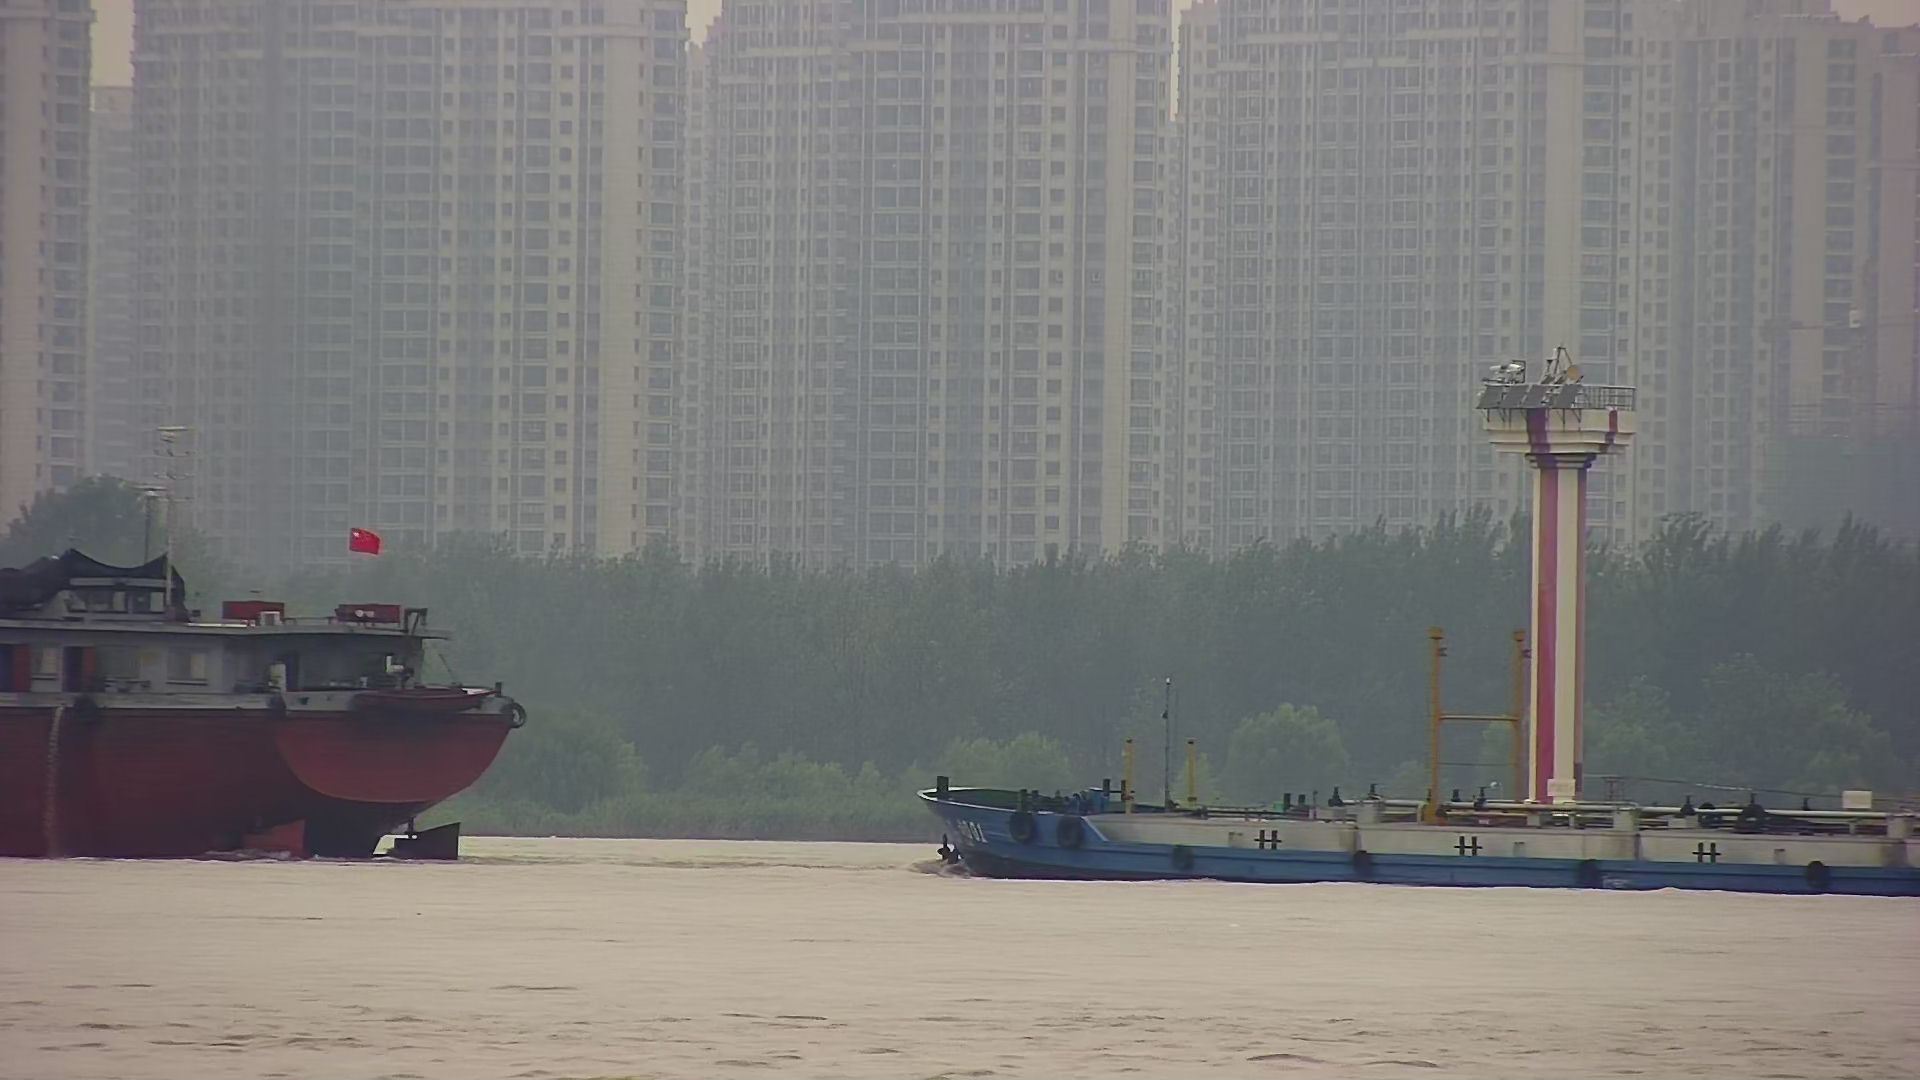platform: (1482, 355, 1633, 889)
ship: (918, 638, 1920, 905), (1, 444, 531, 877)
